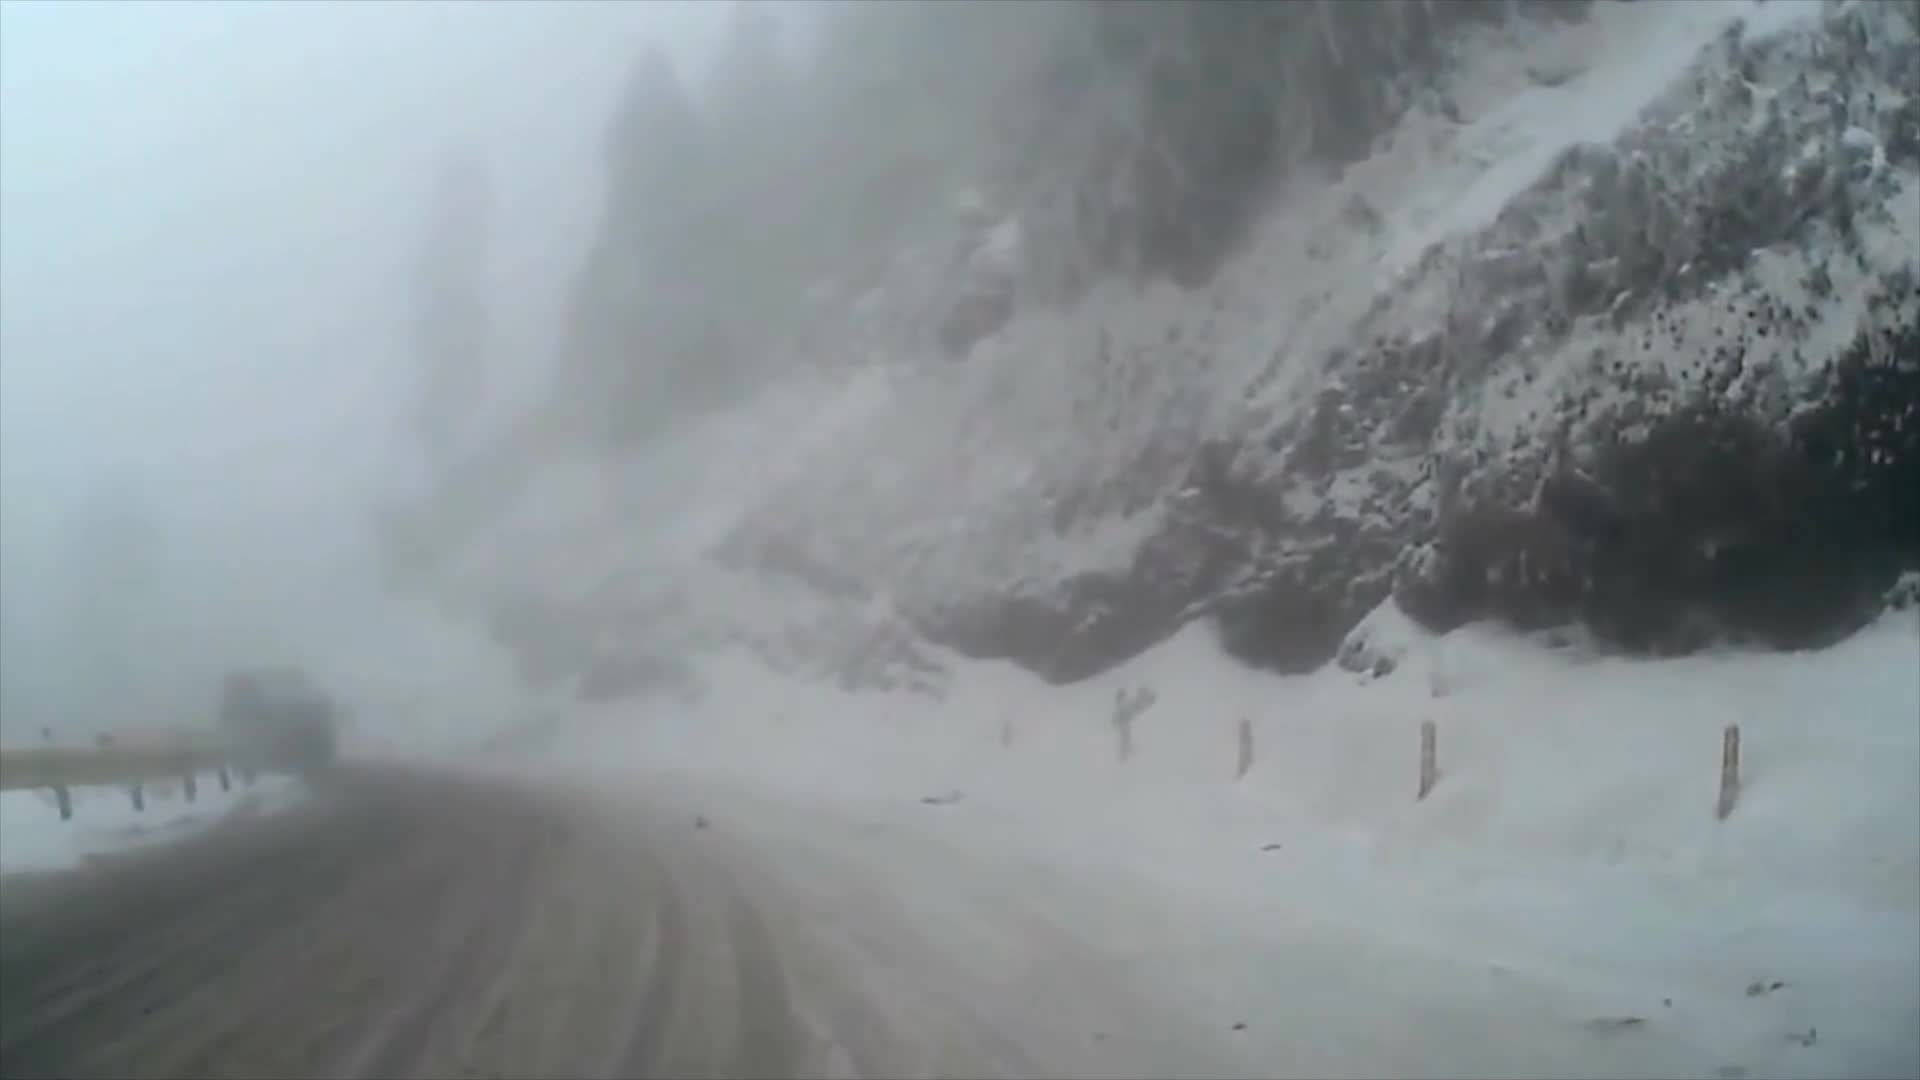vehicle: (220, 670, 338, 773)
